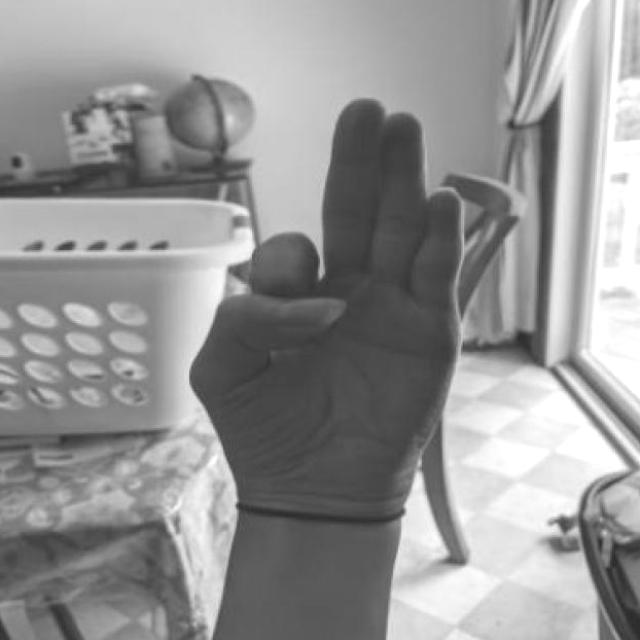F: (175, 79, 478, 552)
